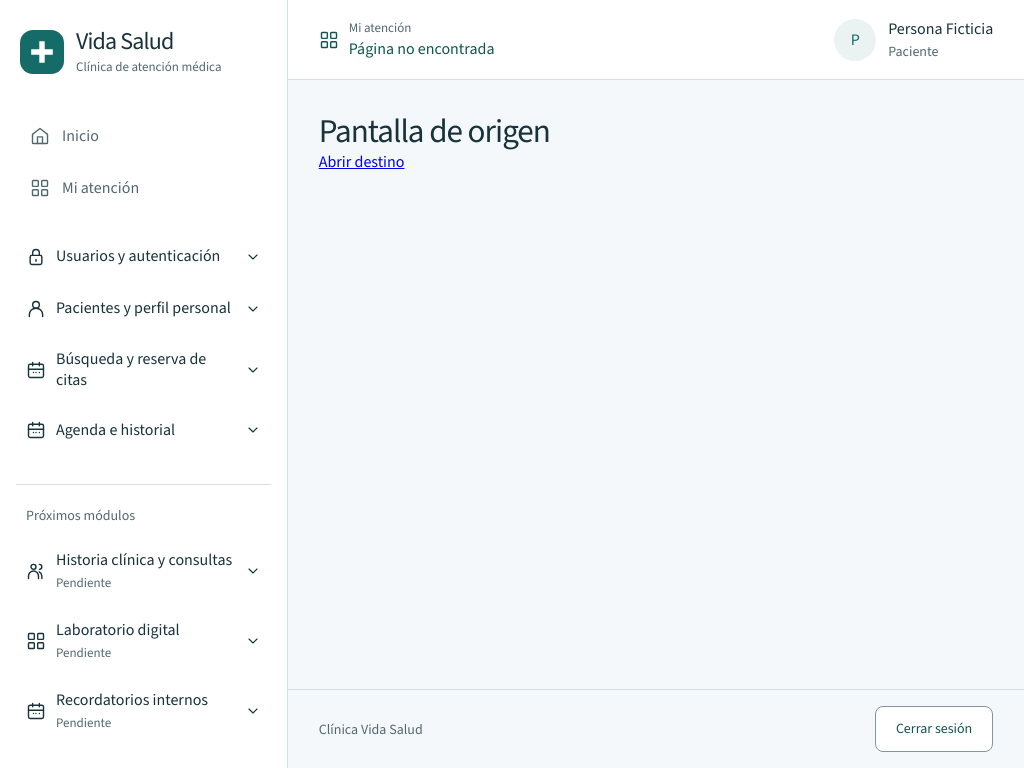
Test: navegación accesible entre pantallas › autenticada: al cambiar ruta vuelve arriba y enfoca el contenido
Check: the heading "Pantalla de origen" is shown, box [319,109,550,153]
Click the link "Abrir destino": click(362, 162) [319,151,404,172]
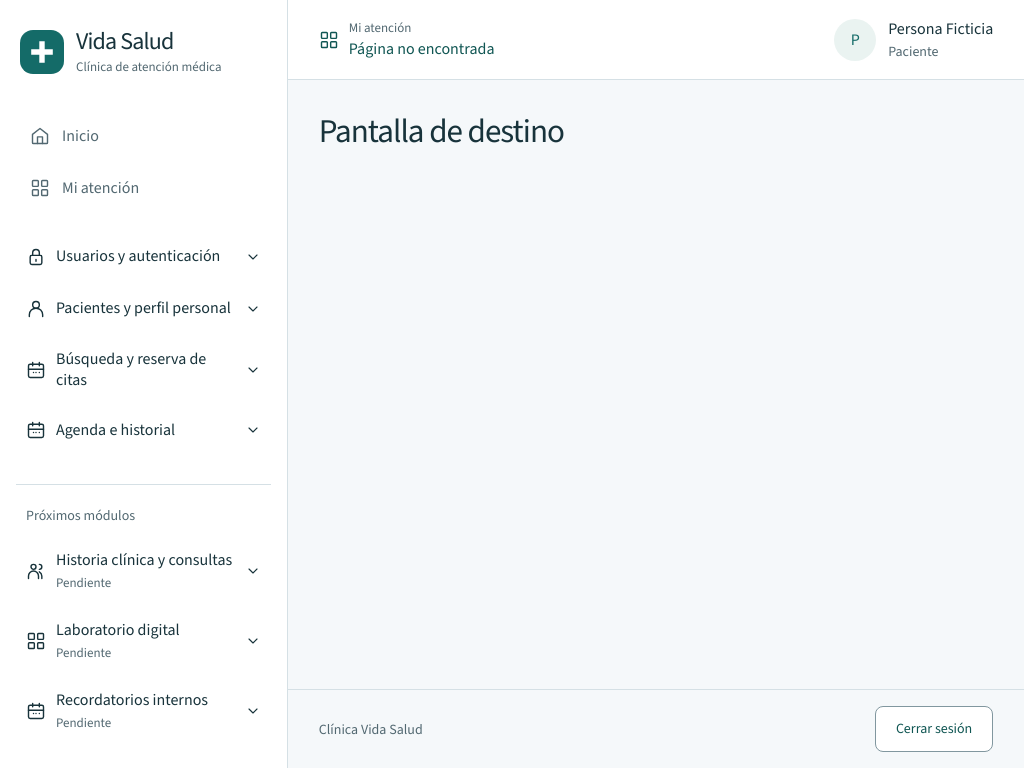
Check: the heading "Pantalla de destino" is shown, box [319,109,564,153]
